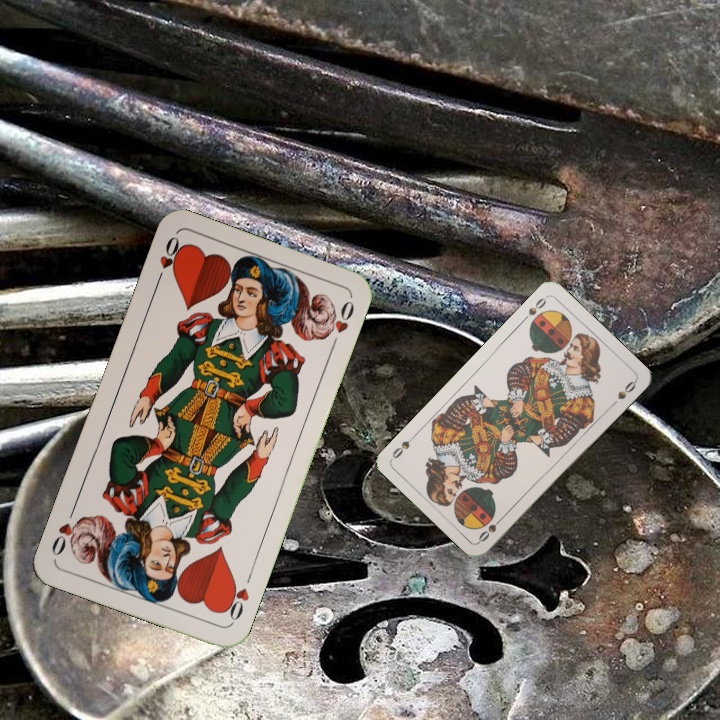HO: (219, 568, 256, 626), (151, 232, 185, 289)
SO: (474, 512, 507, 545), (518, 292, 550, 325)
